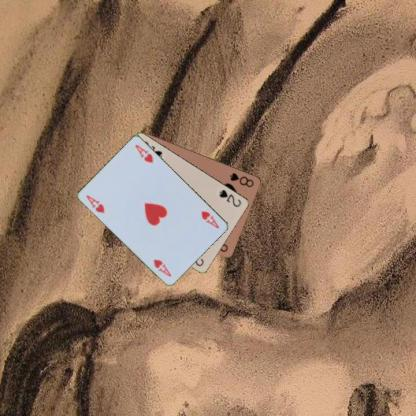2s: (216, 187, 242, 208)
8s: (228, 170, 255, 188)
Ah: (84, 192, 106, 214), (198, 209, 221, 230)
